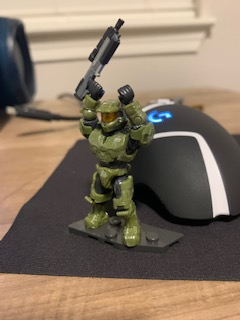chief: (77, 81, 156, 249)
rifle: (73, 18, 125, 100)
spartan: (75, 79, 154, 247)
up: (77, 81, 156, 166)
